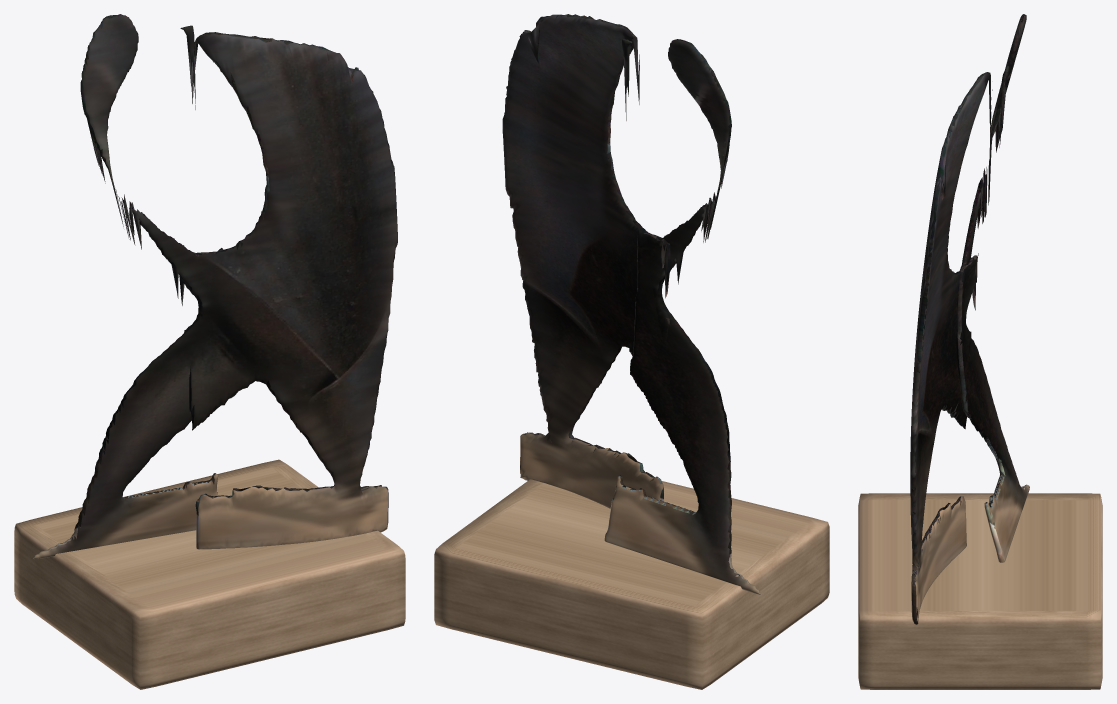
The model's file is hy3d-esc-006.glb.
3 renders of one model, left to right at view 1: azimuth 30°, elevation 25°; view 2: azimuth 150°, elevation 25°; view 3: azimuth 270°, elevation 25°, orthographic. The views are drawn at different scales.
Visible parts, largest first — view 1: world; view 2: world; view 3: world.
Part boxes in pixels (x1,y1,x2,y2): world: (14,14,405,689); world: (434,14,829,689); world: (858,14,1102,689).
Size of the model in its own units: 0.2369 by 0.4393 by 0.1688.
Materials: 1 (1 with a texture image).
